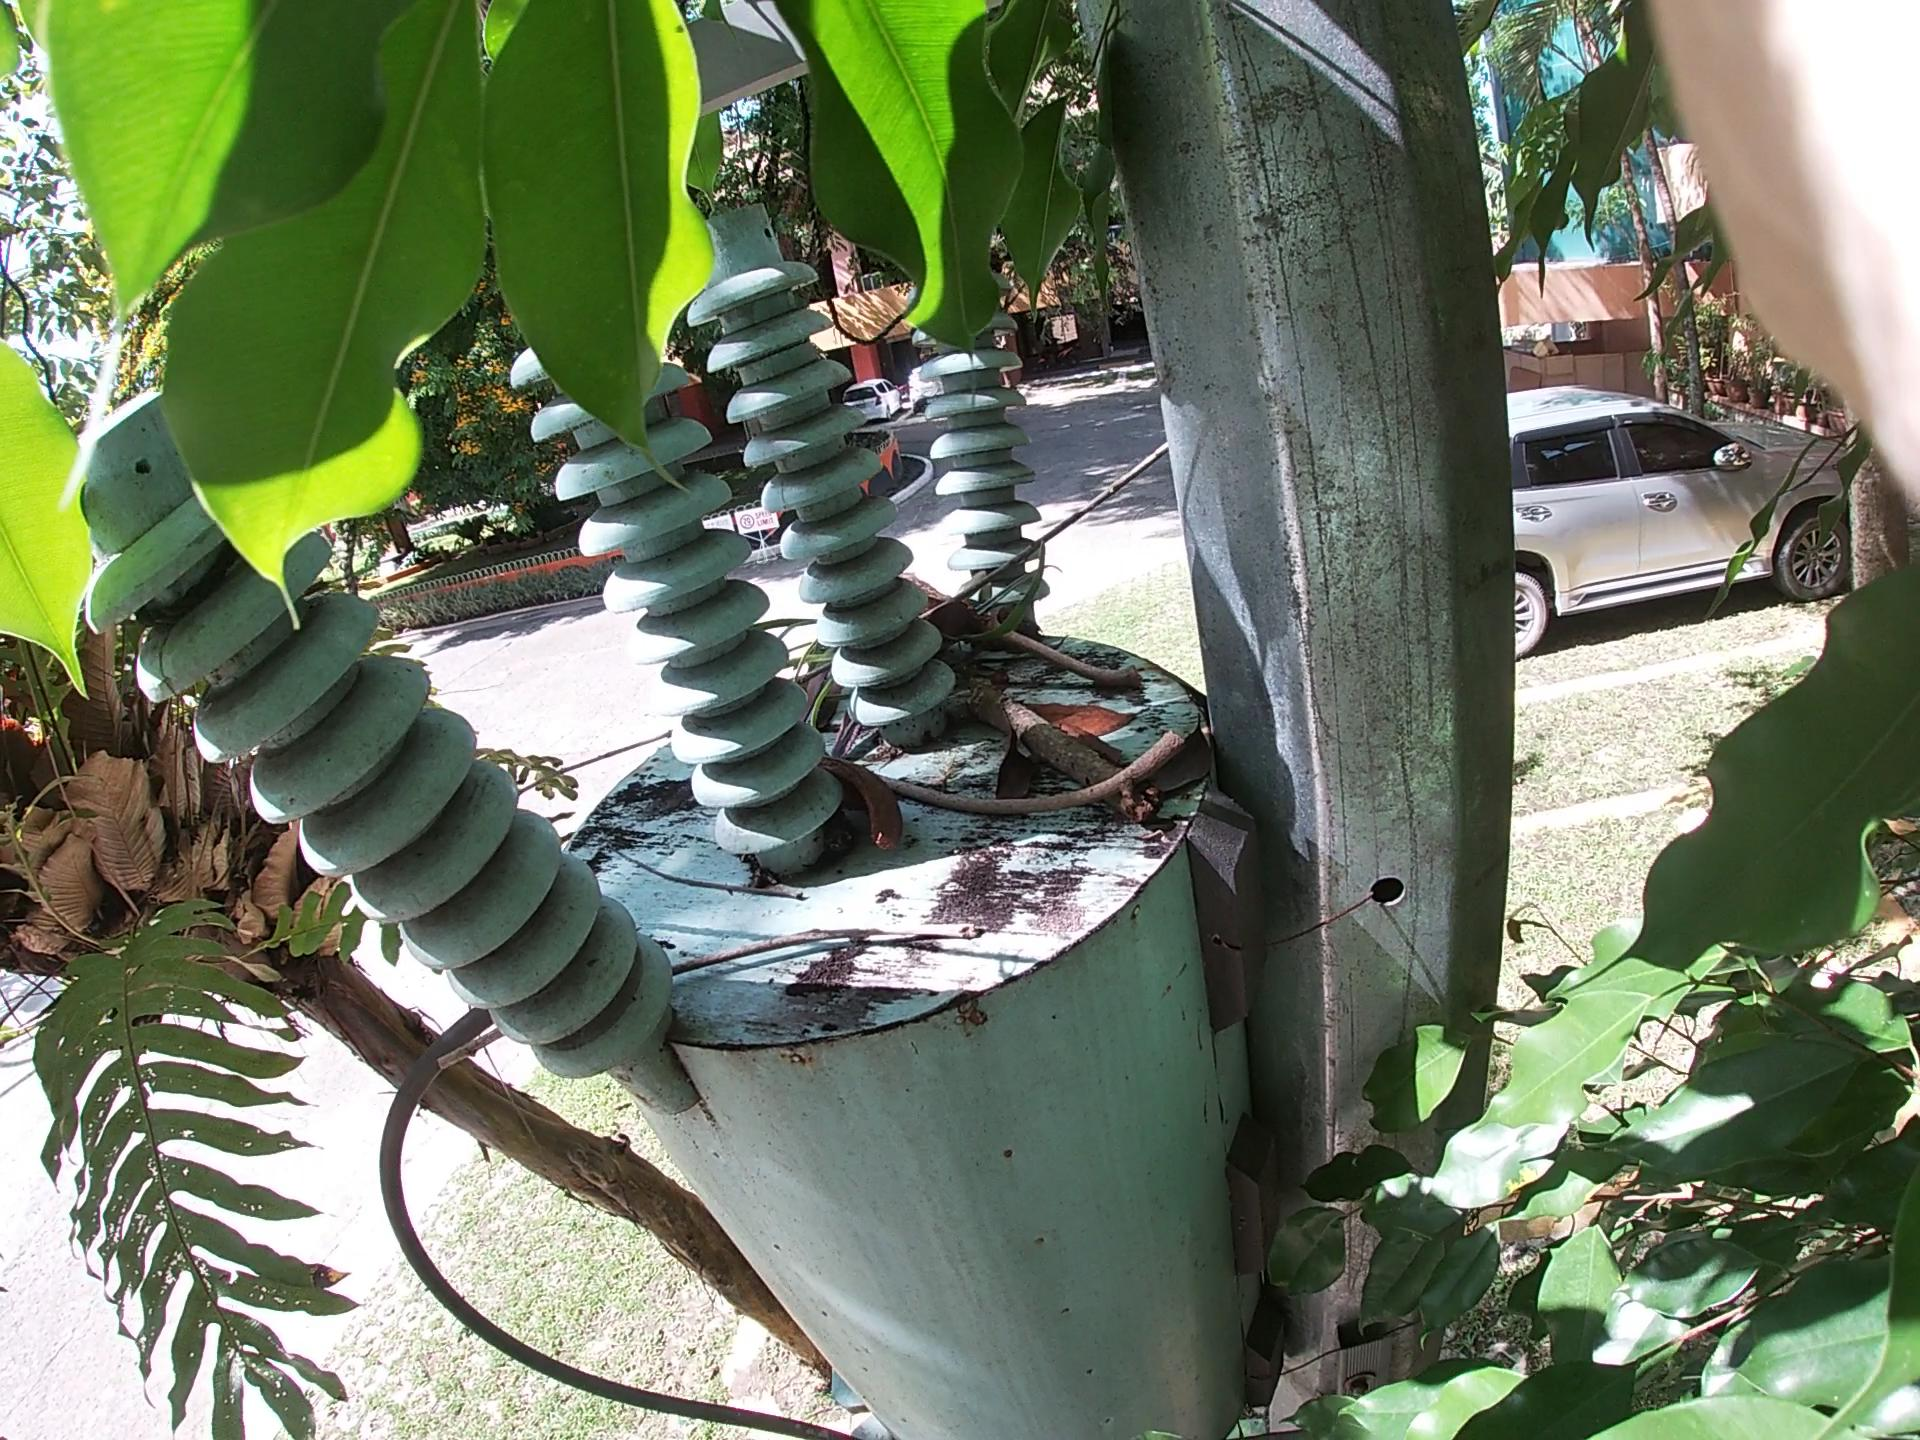branch with leaves: (883, 588, 1178, 844)
leaf: (977, 669, 1137, 793)
tree branch: (698, 366, 1228, 755), (392, 911, 999, 1134), (813, 744, 1170, 861), (915, 579, 1209, 673)
